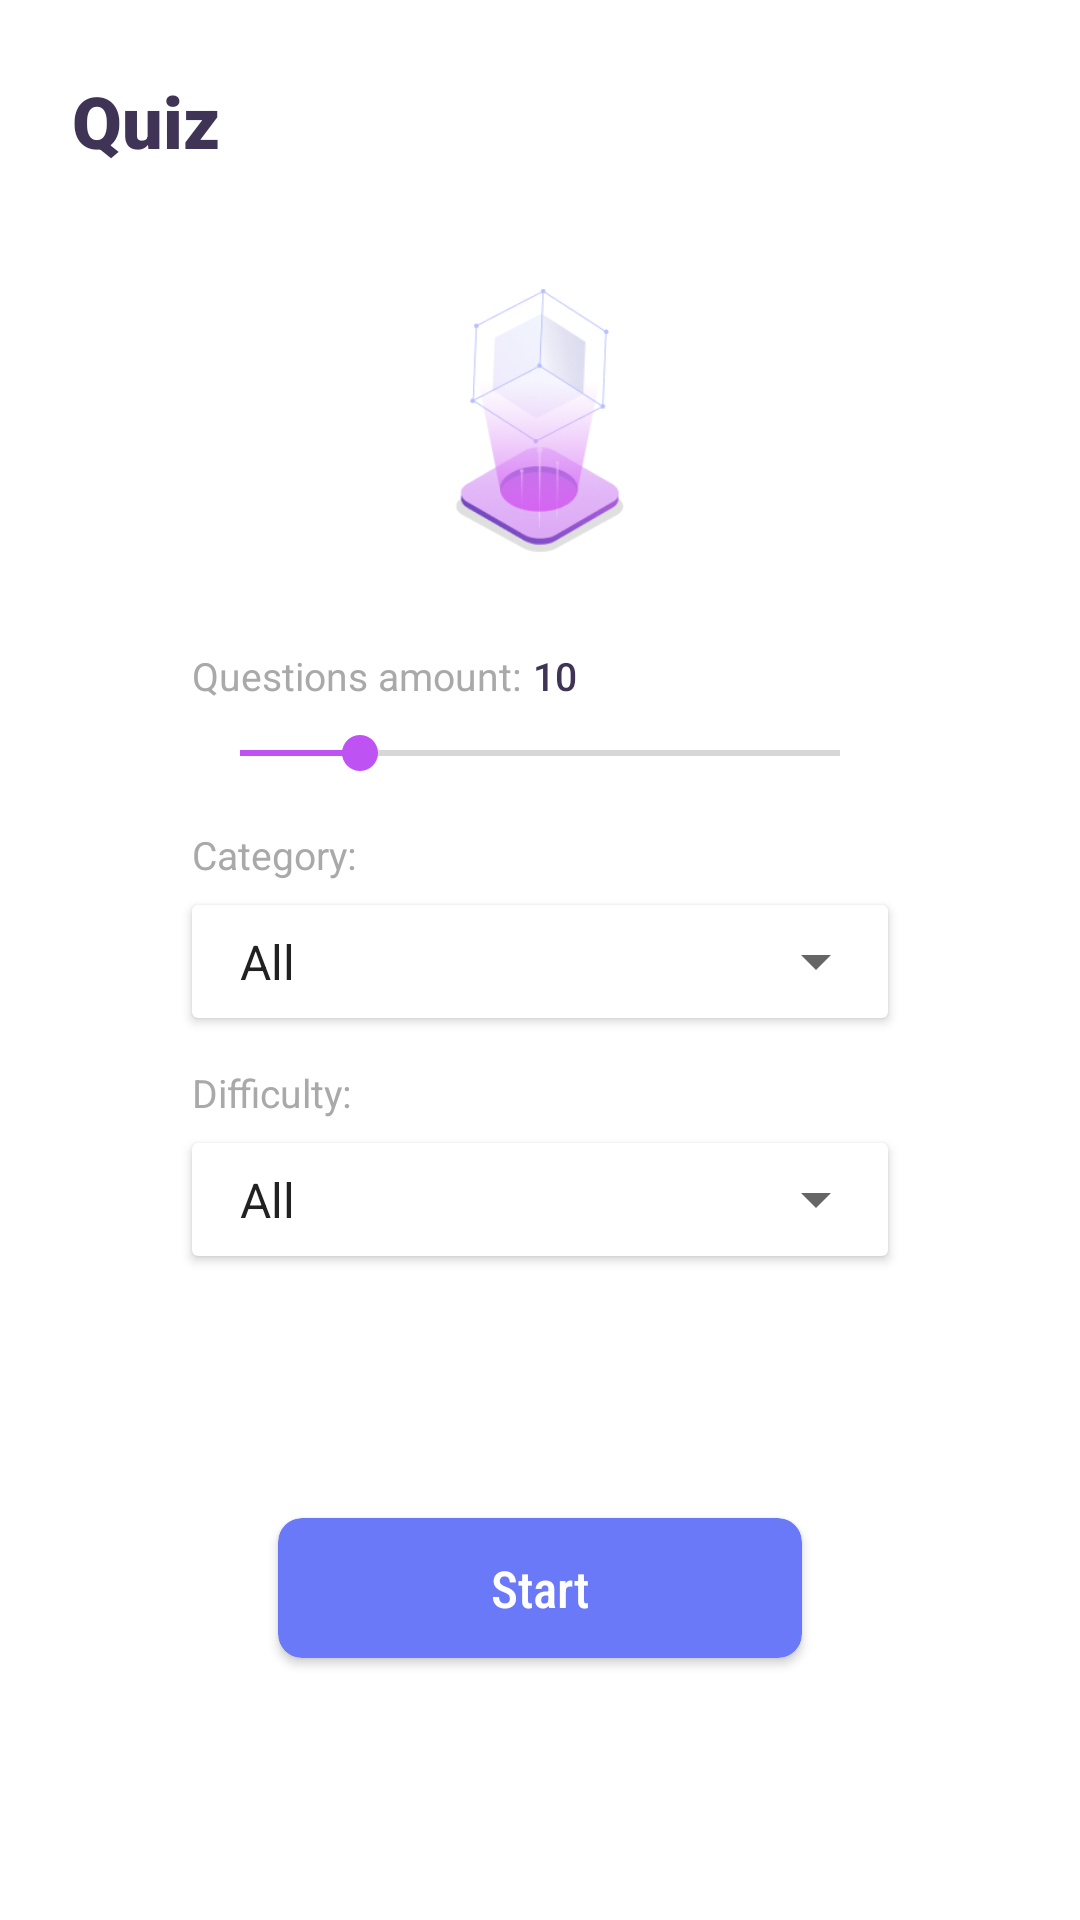

Icon click points for this 1080*1920 phone screenshot, format point (x, y):
ar cup: point (540, 420)
